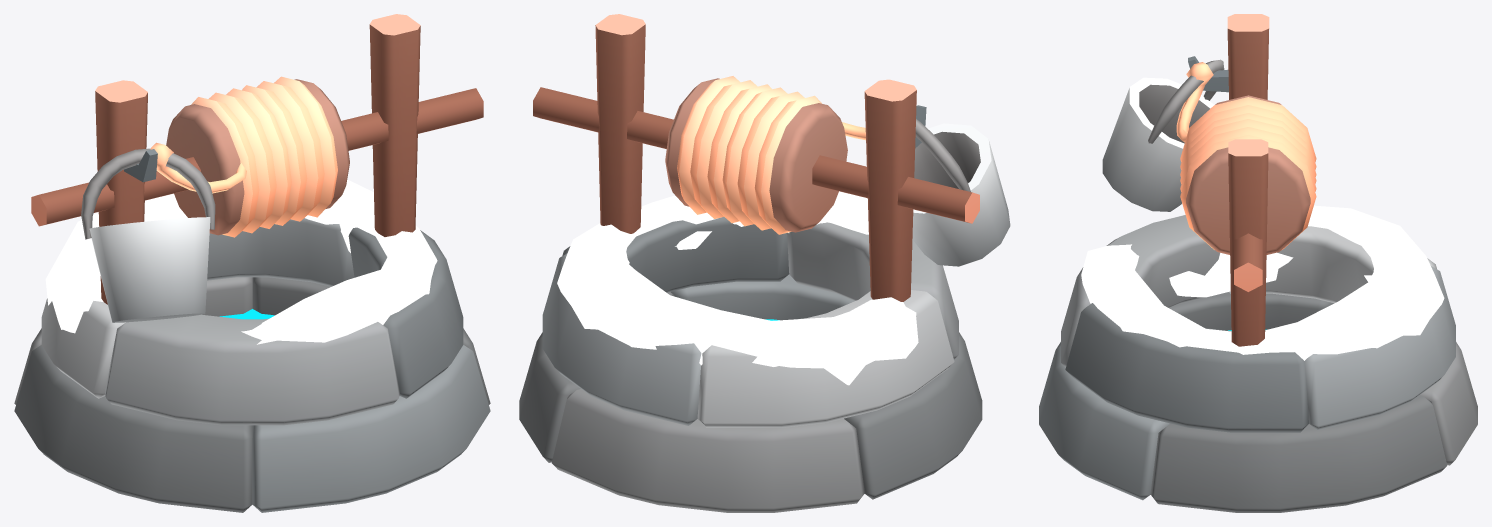
Rendered from pit_001.glb.
3 views of the same model, side by side, from view 1: azimuth 30°, elevation 25°; view 2: azimuth 150°, elevation 25°; view 3: azimuth 270°, elevation 25° (orthographic). The views are drawn at different scales.
Visible parts, largest first — view 1: pit_001; view 2: pit_001; view 3: pit_001.
Boxes of the visible parts, x1,y1,x2,y2 form: pit_001: (14,14,490,512); pit_001: (519,14,1010,512); pit_001: (1039,14,1477,512).
Bounding box in the file's own units: 2.39 × 1.88 × 2.22.
2 materials, 2 textured.
